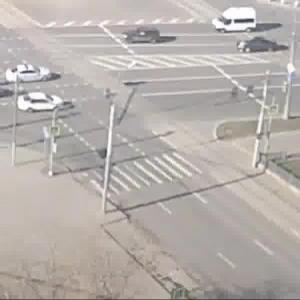car: (213, 8, 259, 35), (5, 65, 54, 86), (123, 26, 166, 49), (22, 94, 68, 113), (240, 36, 279, 56)
